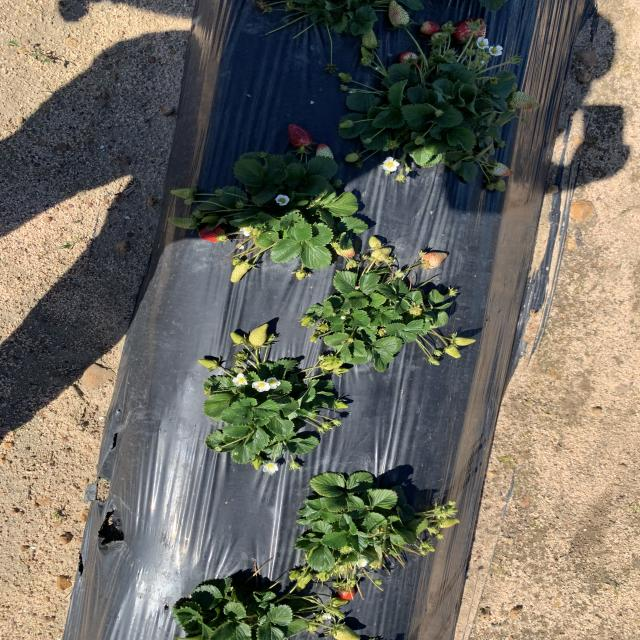unripe: (455, 17, 486, 43), (289, 123, 311, 148), (198, 225, 225, 242), (336, 581, 357, 599), (420, 22, 440, 36), (400, 52, 420, 66)
